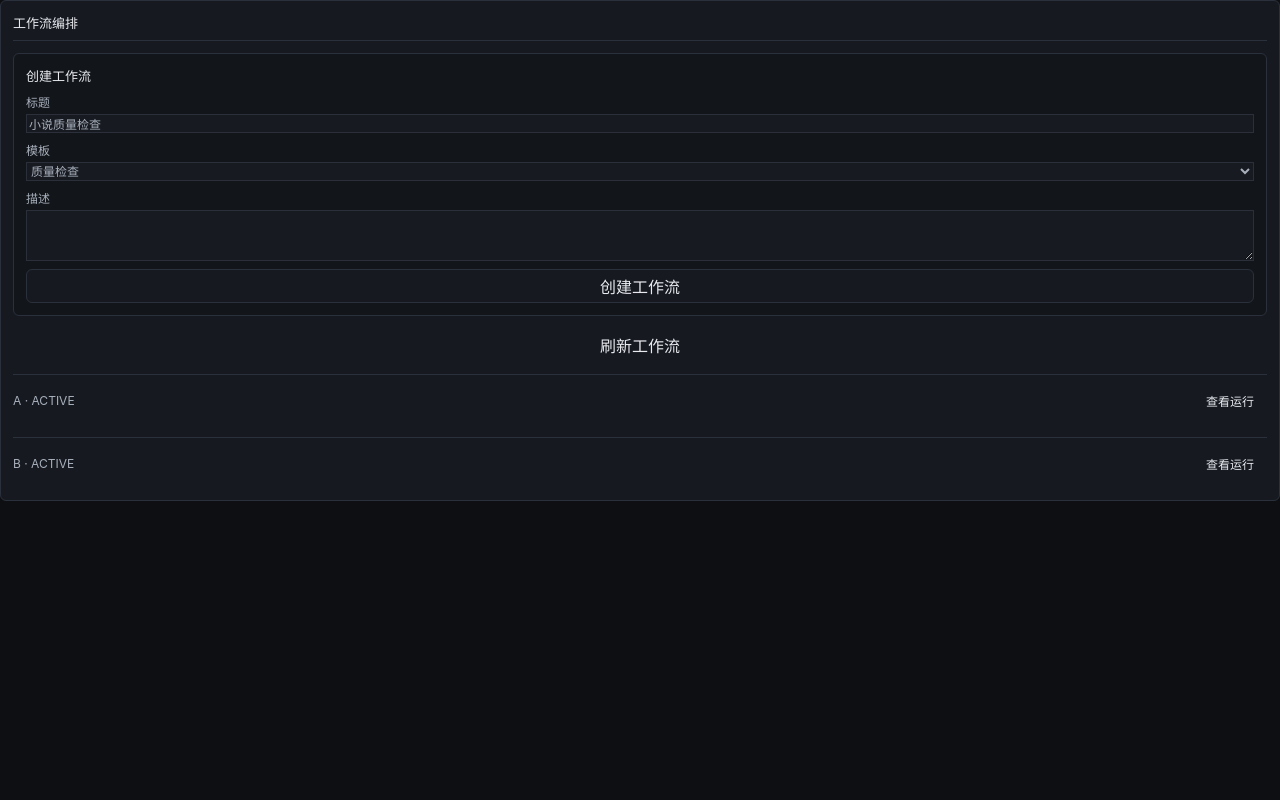
Test: workflow rejects a prior selection's late runs in the same scope
The image size is (1280, 800).
Click the 1st button "查看运行" at (1230,400), box x1=1193 y1=383 x2=1267 y2=417
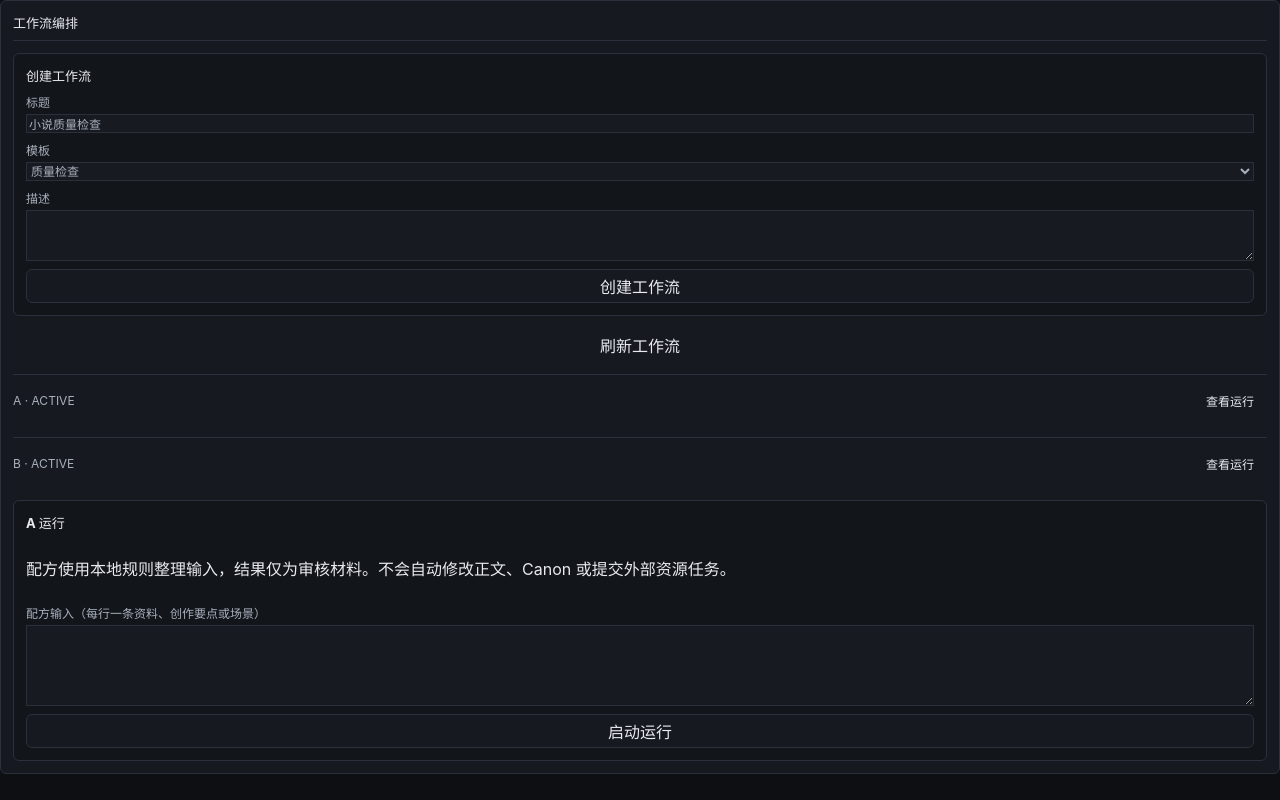
Click the 2nd button "查看运行" at (1230,463), box x1=1193 y1=446 x2=1267 y2=480
(page scrolled)
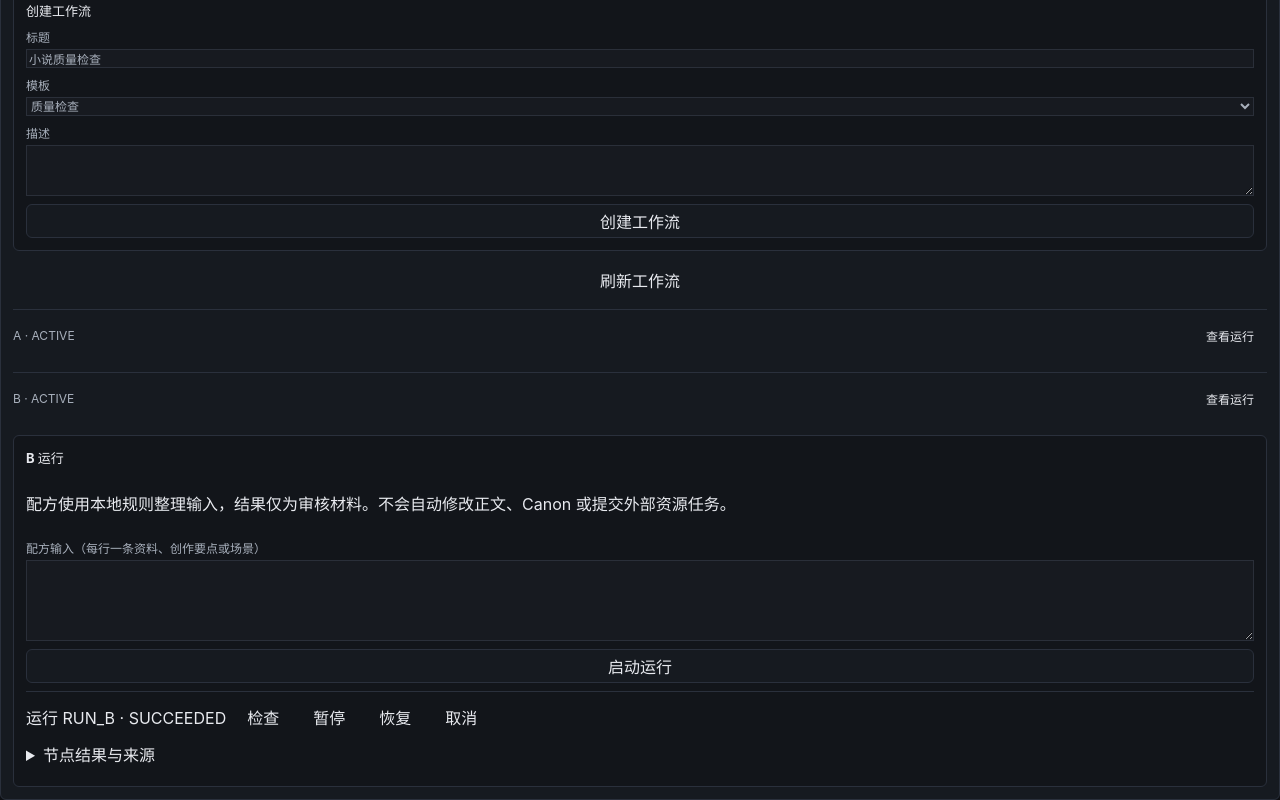
Expected: the text "运行 RUN_B · SUCCEEDED 检查 暂停 恢复 取消 节点结果与来源" is shown, x1=26 y1=691 x2=1254 y2=774
